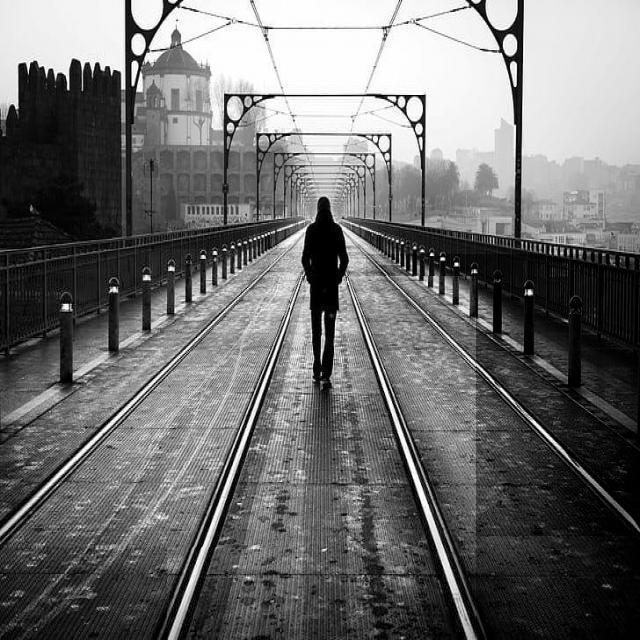rail: (2, 250, 291, 548), (368, 255, 640, 537), (168, 276, 304, 640), (348, 277, 477, 640)
